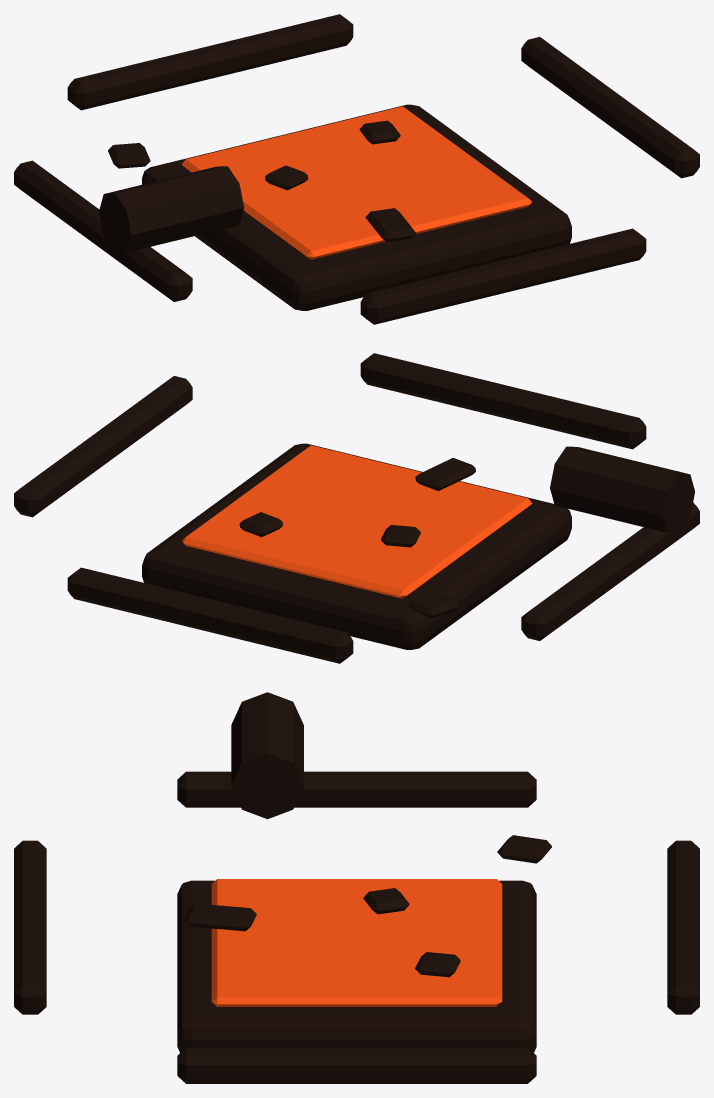
Rendered from slag_0.glb.
3 views of the same model, one above another, from view 1: azimuth 30°, elevation 25°; view 2: azimuth 150°, elevation 25°; view 3: azimuth 270°, elevation 25° (orthographic). The views are drawn at different scales.
Visible parts, largest first — view 1: slag; view 2: slag; view 3: slag.
Boxes of the visible parts, <box> form: slag: <box>14,14,699,324</box>; slag: <box>14,353,699,663</box>; slag: <box>14,692,699,1083</box>.
Size of the model in its own units: 0.9725 by 0.22 by 0.945.
